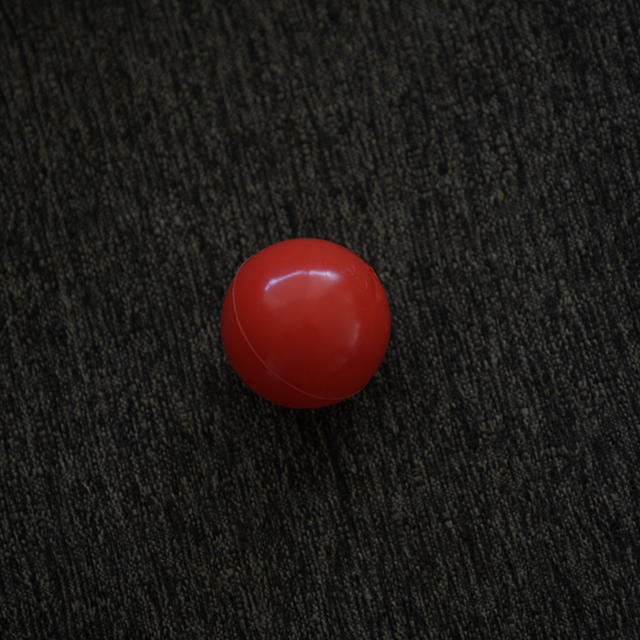Ball: (226, 235, 388, 402)
